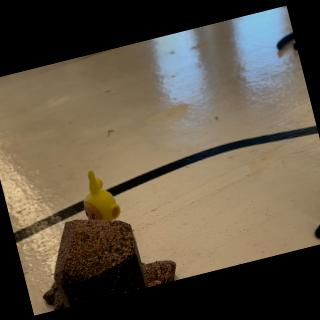teletubby: (83, 170, 120, 220)
